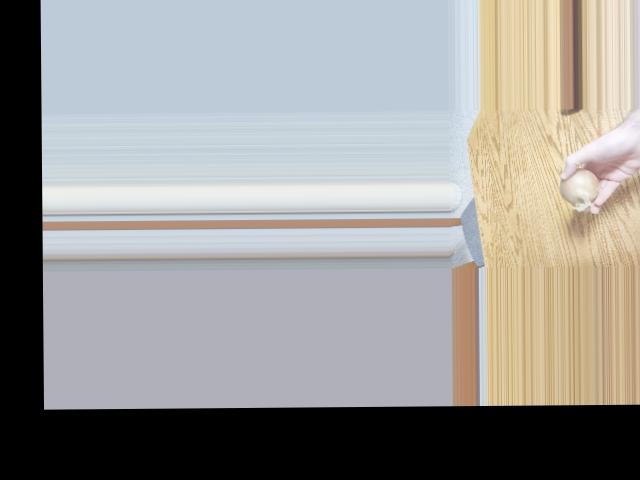onion: (560, 167, 602, 204)
